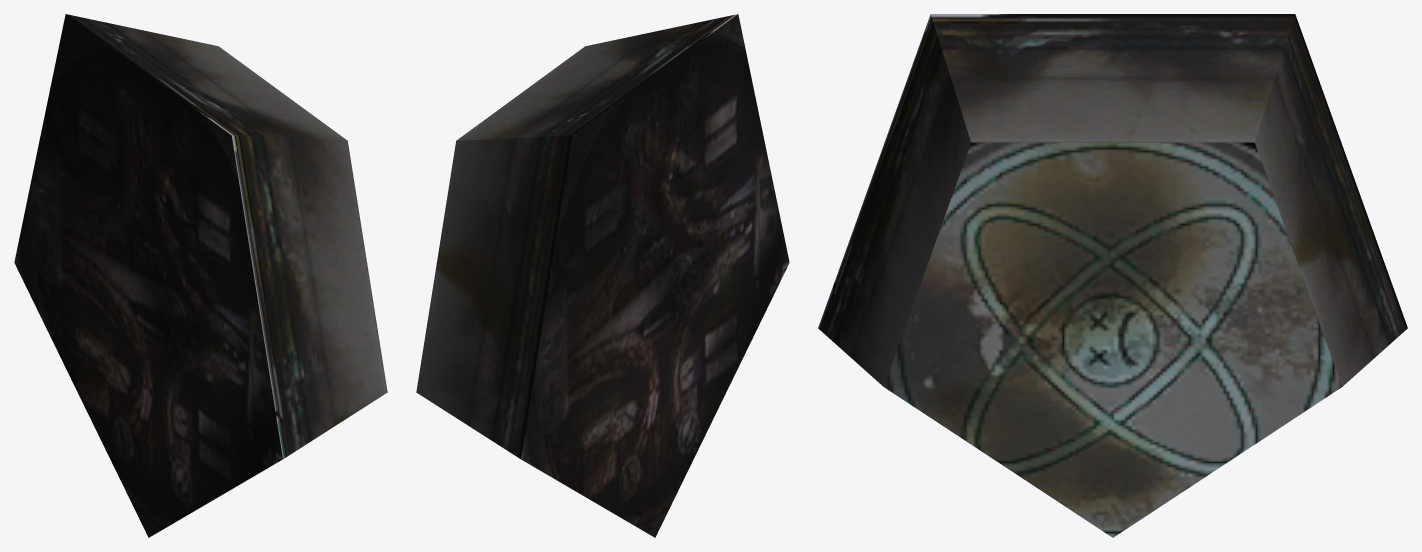
Rendered from nt_2020_wall_meter_cap_dest_LOD2.obj.
3 views of the same model, side by side, from view 1: azimuth 30°, elevation 25°; view 2: azimuth 150°, elevation 25°; view 3: azimuth 270°, elevation 25° (orthographic). The views are drawn at different scales.
Parts seen in each view (by area): view 1: mtl_nt_2020_wall_meter_01_dest; view 2: mtl_nt_2020_wall_meter_01_dest; view 3: mtl_nt_2020_wall_meter_01_dest.
Part boxes in pixels (x1,y1,x2,y2): mtl_nt_2020_wall_meter_01_dest: (14,14,387,537); mtl_nt_2020_wall_meter_01_dest: (416,14,789,537); mtl_nt_2020_wall_meter_01_dest: (818,14,1407,537).
Bounding box in the file's own units: 4.72 × 15.51 × 16.31.
